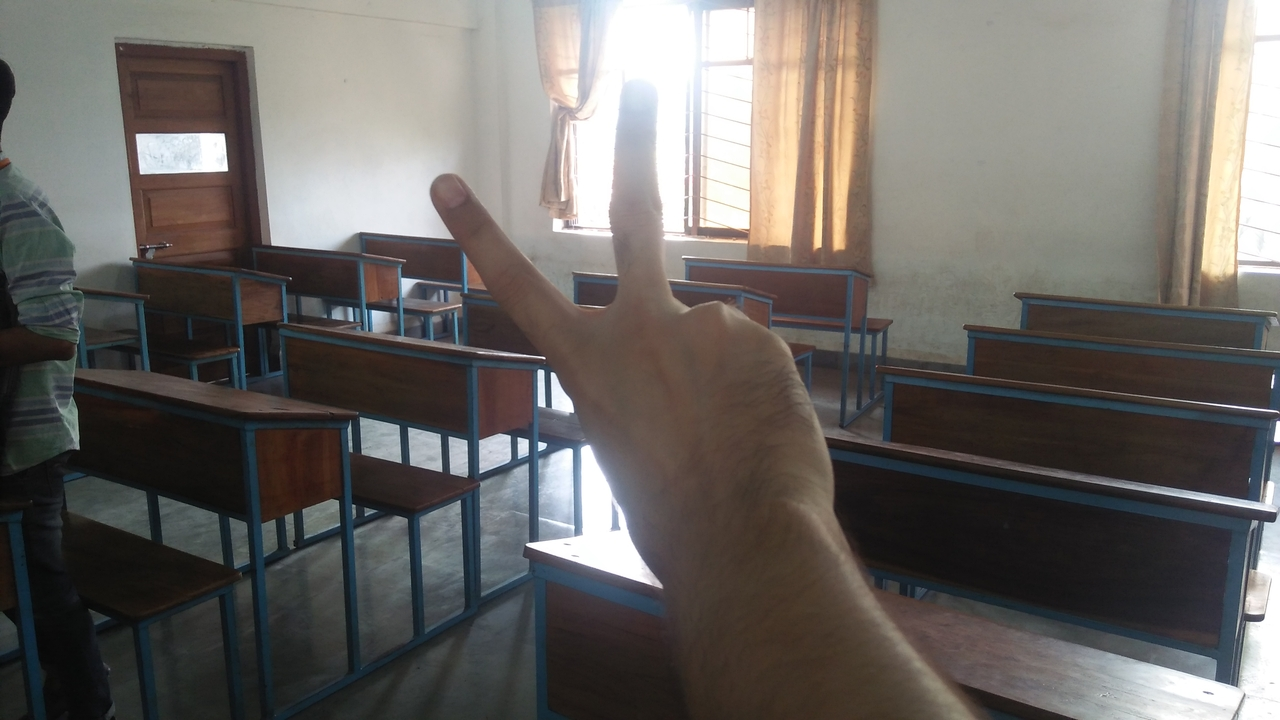fingertip: (418, 164, 478, 216), (608, 74, 666, 122)
